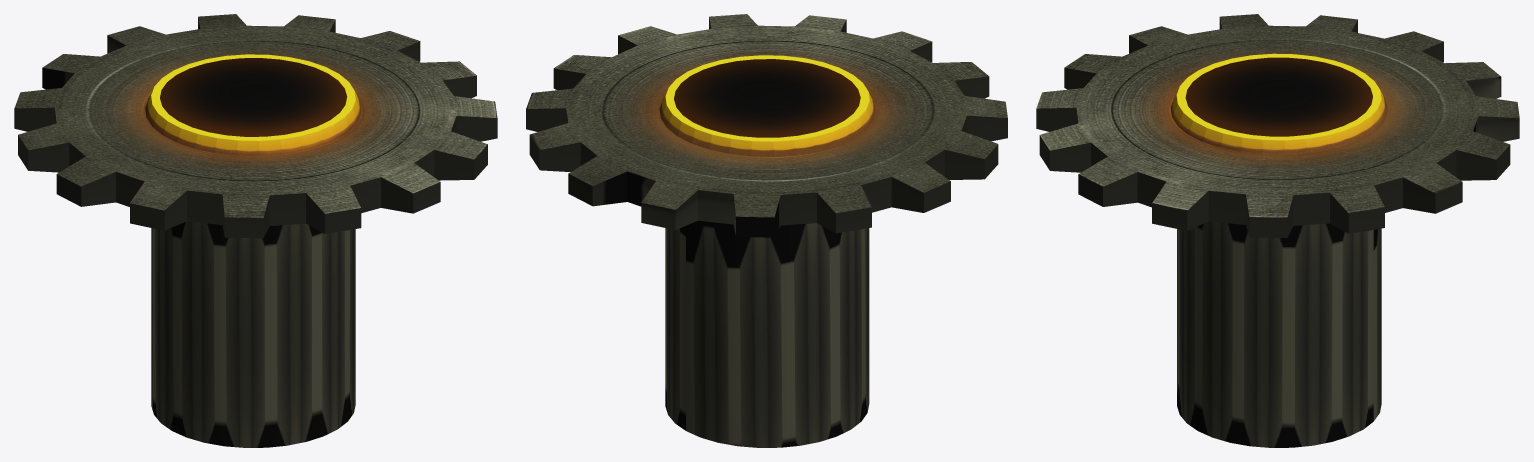
File: SpinningGear.FBX
The picture shows the model from 3 angles, left to right: view 1: azimuth 30°, elevation 25°; view 2: azimuth 150°, elevation 25°; view 3: azimuth 270°, elevation 25°; orthographic projection.
Visible parts, largest first — view 1: Object018; view 2: Object018; view 3: Object018.
Boxes of the visible parts, left/top/right/bottom form: Object018: left=14, top=14, right=497, bottom=447; Object018: left=526, top=14, right=1007, bottom=447; Object018: left=1036, top=14, right=1519, bottom=447.
Bounding box in the file's own units: 1733 × 1230 × 1737.
